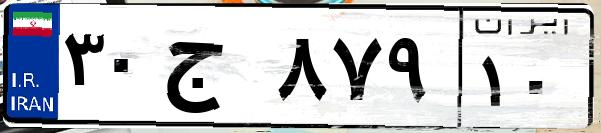0: (525, 38, 570, 115), (110, 28, 158, 98)
1: (475, 38, 525, 113)
3: (57, 26, 110, 100)
7: (330, 28, 385, 110)
8: (270, 28, 330, 110)
9: (385, 28, 445, 110)
ج: (158, 20, 270, 120)
